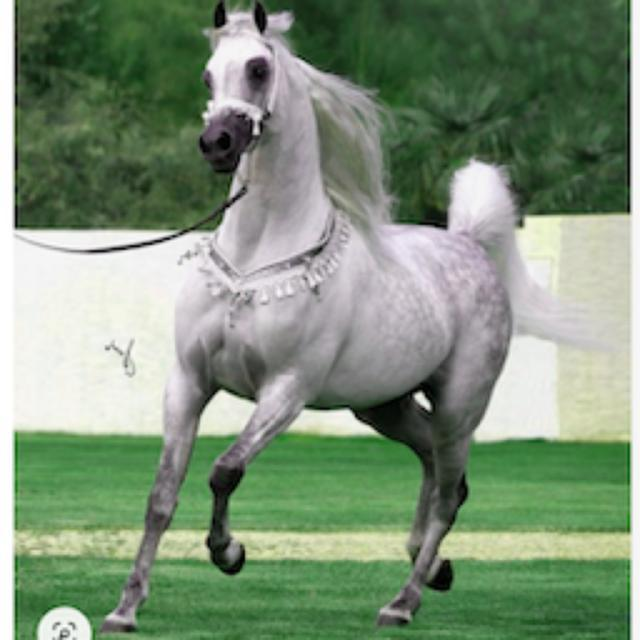Horse: (90, 0, 608, 638)
